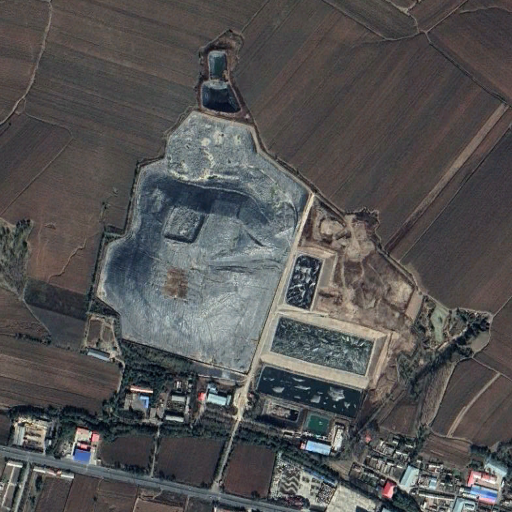lf: (94, 118, 306, 385)
